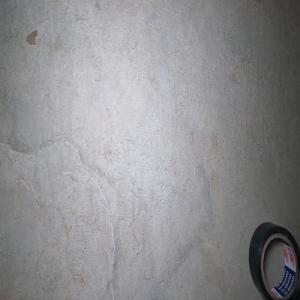Tape: (248, 221, 300, 300)
